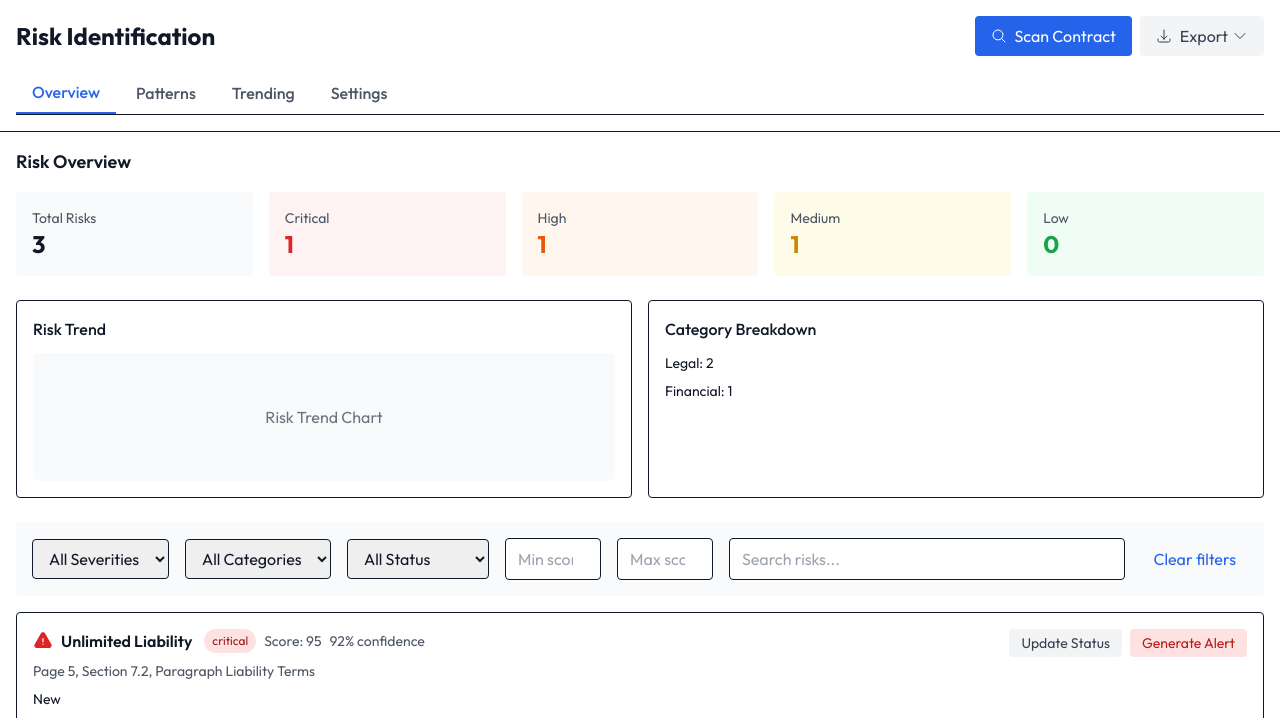
Test: RiskIdentification › Risk Filtering › should filter by category
The width and height of the screenshot is (1280, 718).
Step 1. Select "Financial" in the dropdown named "Filter by category" → (258, 559), box [185,539,331,579]
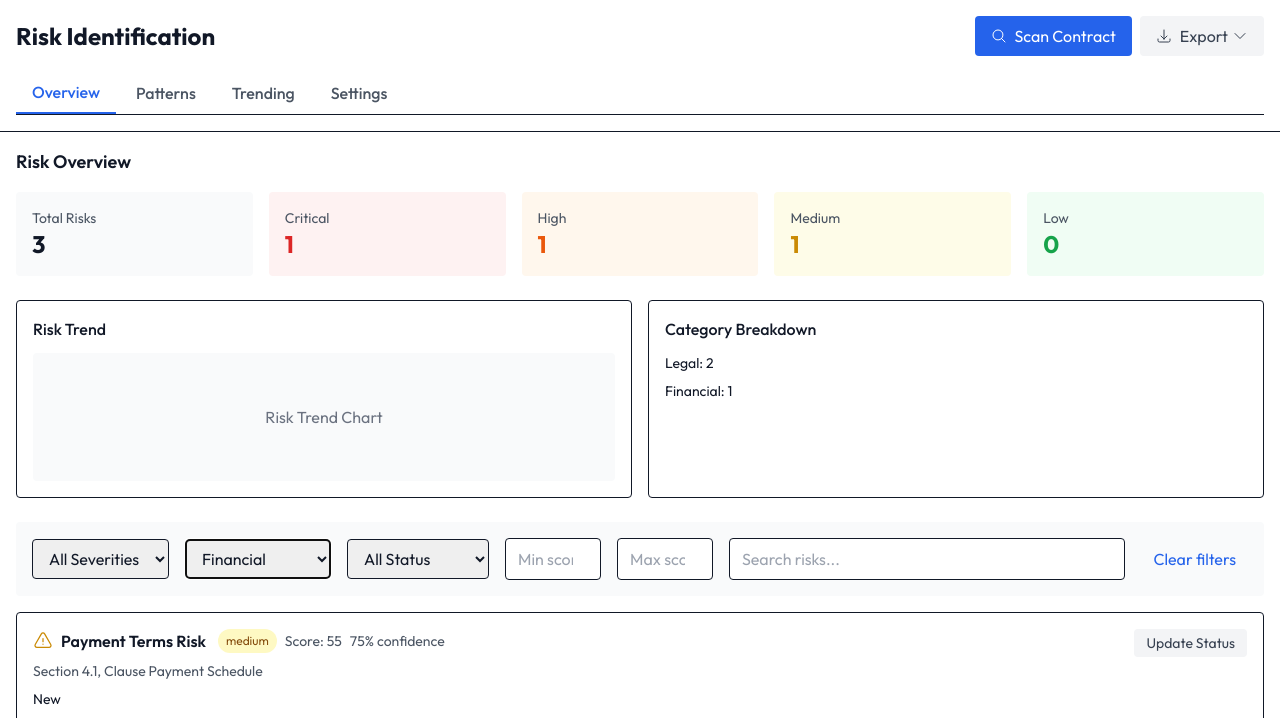
Check: the heading "Payment Terms Risk" is shown, box [61,629,206,653]
Check: the heading "Unlimited Liability" is gone
